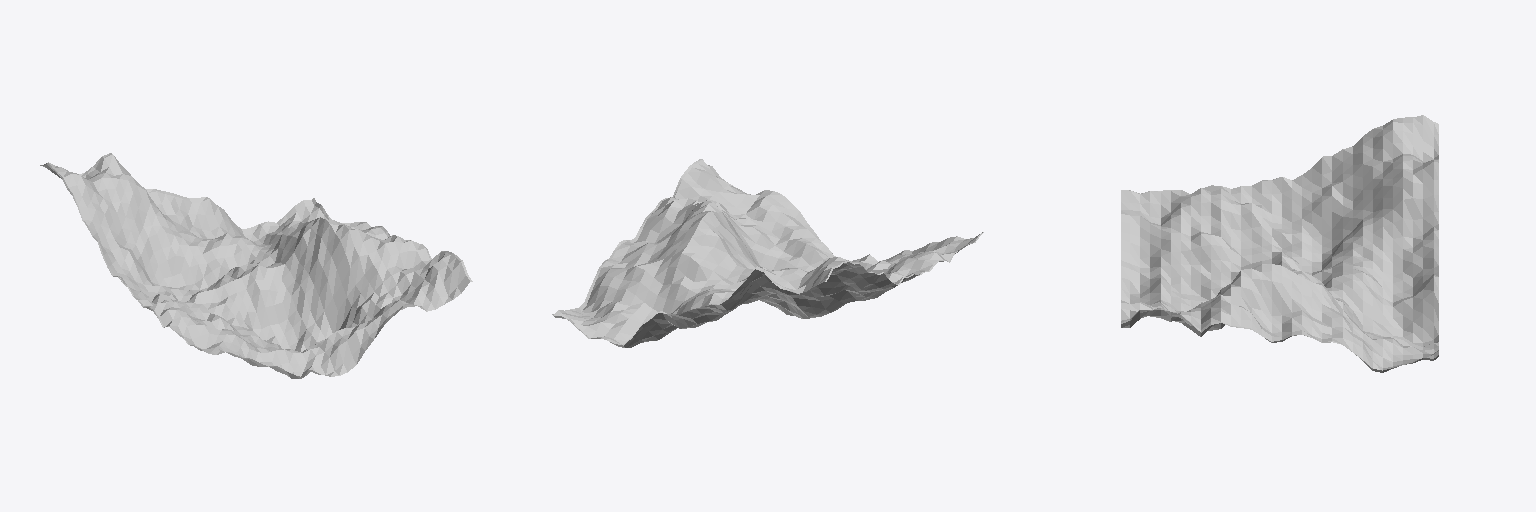
Rendered from terrain_-1_0.obj.
3 views of the same model, side by side, from view 1: azimuth 30°, elevation 25°; view 2: azimuth 150°, elevation 25°; view 3: azimuth 270°, elevation 25° (orthographic).
Visible parts, largest first — view 1: terrain_-1_0_Plane.063; view 2: terrain_-1_0_Plane.063; view 3: terrain_-1_0_Plane.063.
Boxes of the visible parts, x1,y1,x2,y2 form: terrain_-1_0_Plane.063: [40, 153, 472, 378]; terrain_-1_0_Plane.063: [552, 159, 983, 347]; terrain_-1_0_Plane.063: [1121, 115, 1438, 372].
Size of the model in its own units: 32 by 16.58 by 32.